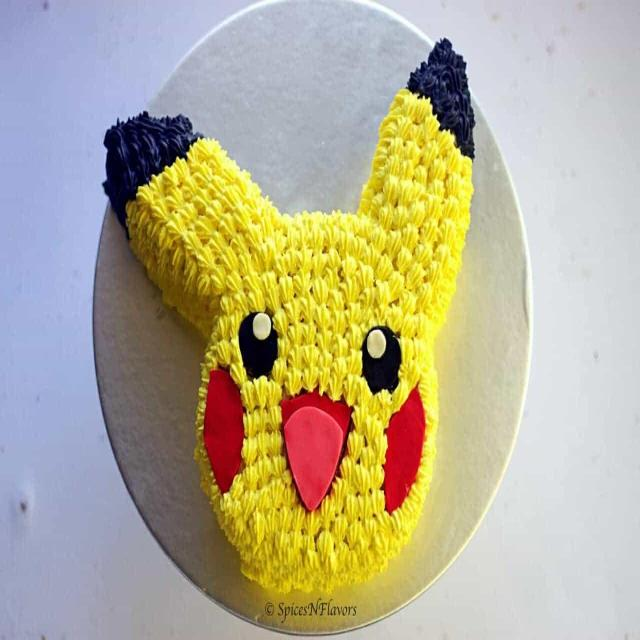pikachu: (106, 38, 476, 589)
